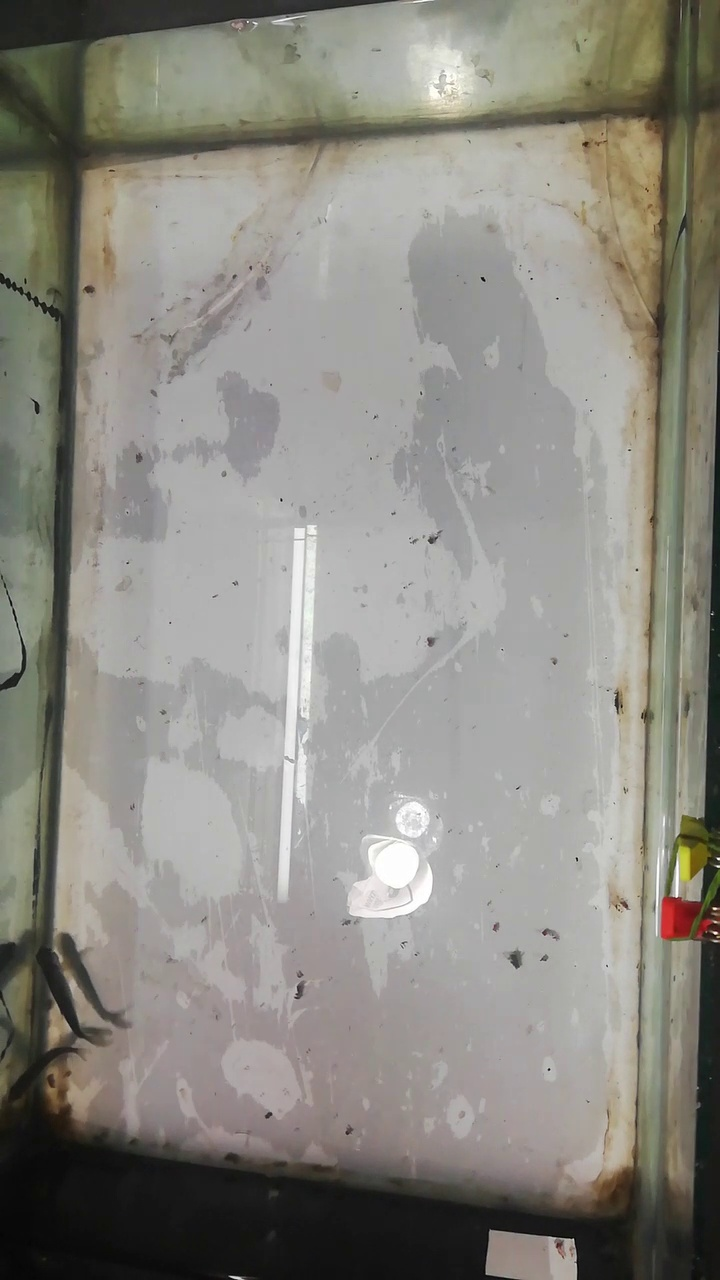fish1: (35, 949, 107, 1045)
fish2: (7, 1045, 84, 1103)
